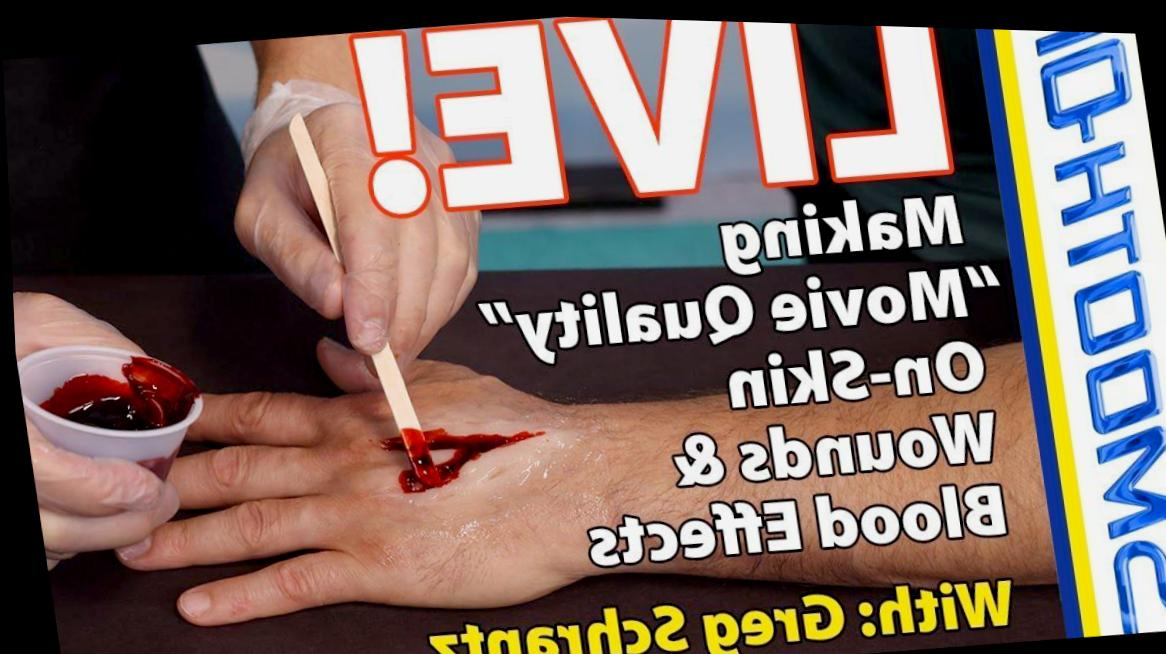Fire: (33, 355, 193, 430), (376, 425, 539, 490), (129, 449, 170, 480)
